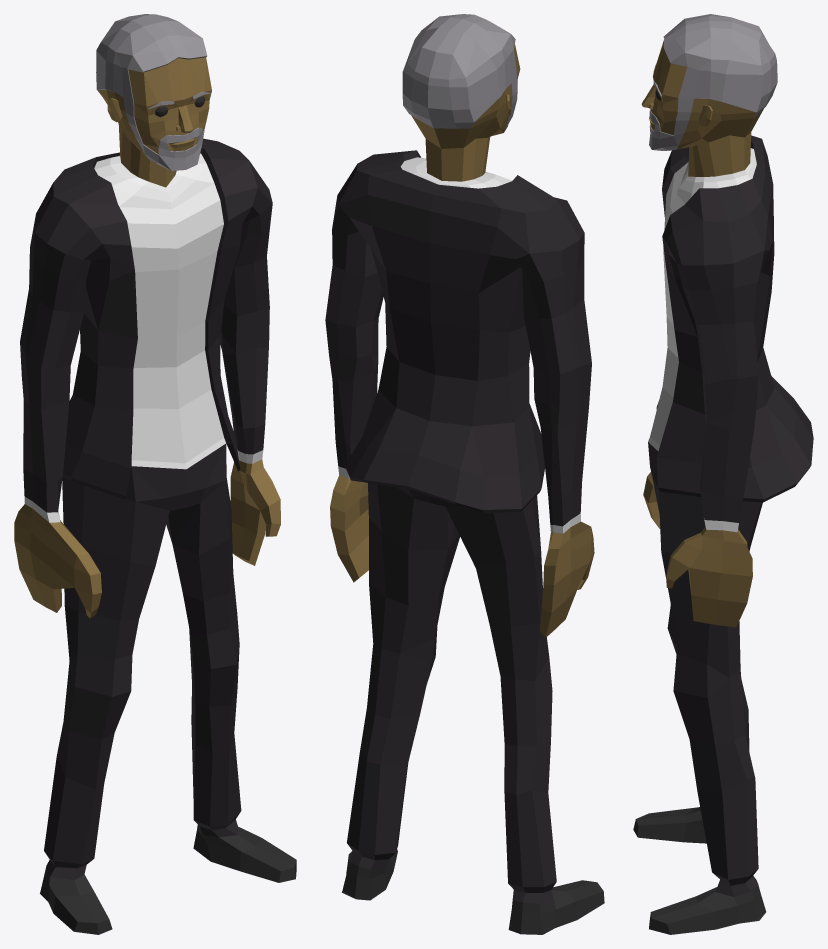
The model's file is Male_Suit_ForMixamo.fbx.
3 renders of one model, left to right at view 1: azimuth 30°, elevation 25°; view 2: azimuth 150°, elevation 25°; view 3: azimuth 270°, elevation 25°, orthographic. The views are drawn at different scales.
Parts seen in each view (by area): view 1: ForMixamo; view 2: ForMixamo; view 3: ForMixamo.
Part boxes in pixels (x1,y1,x2,y2): ForMixamo: [14, 14, 296, 934]; ForMixamo: [325, 14, 604, 934]; ForMixamo: [633, 14, 813, 934].
Size of the model in its own units: 142 by 483 by 92.17.
